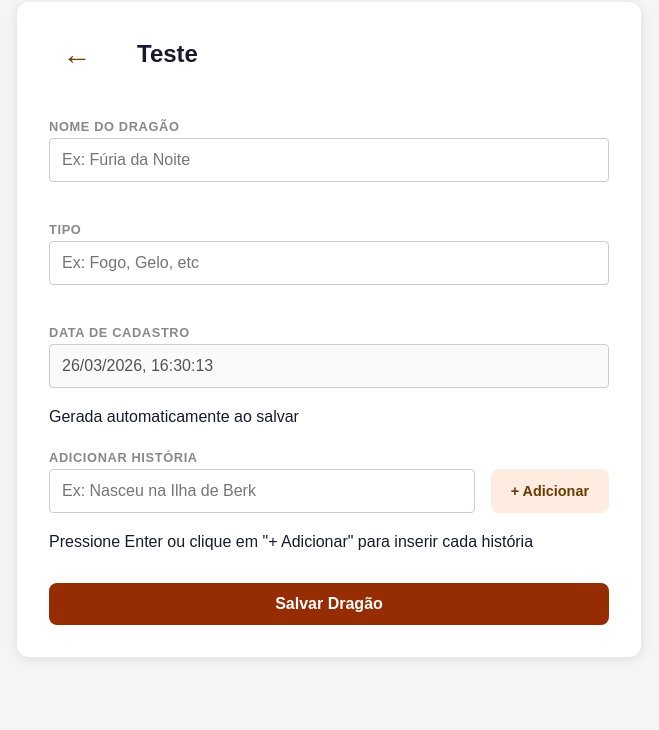
Test: DragonForm › deve mostrar erro se nome ou tipo não forem preenchidos
Click the button "Salvar Dragão". click: click(329, 604)
box: left=49, top=583, right=609, bottom=625
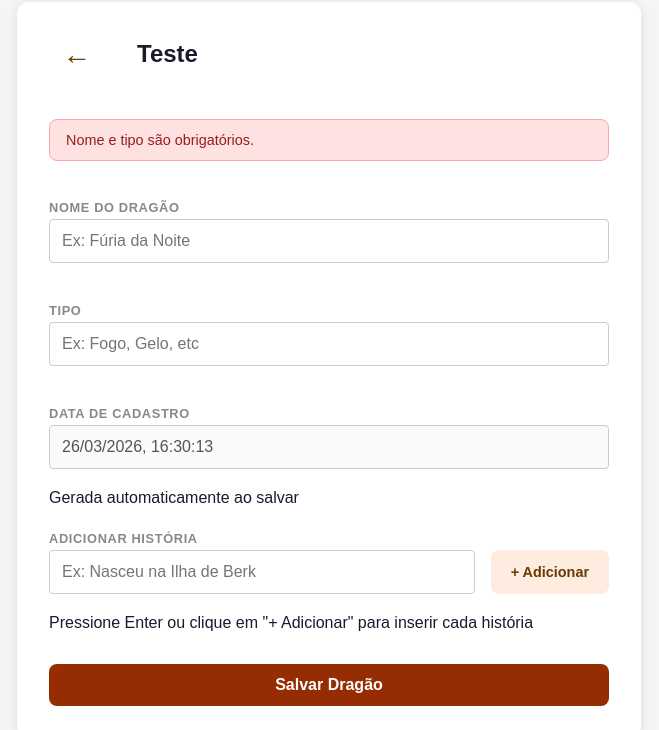
Expected: the text "Nome e tipo são obrigatórios." is shown, left=49, top=119, right=609, bottom=161
